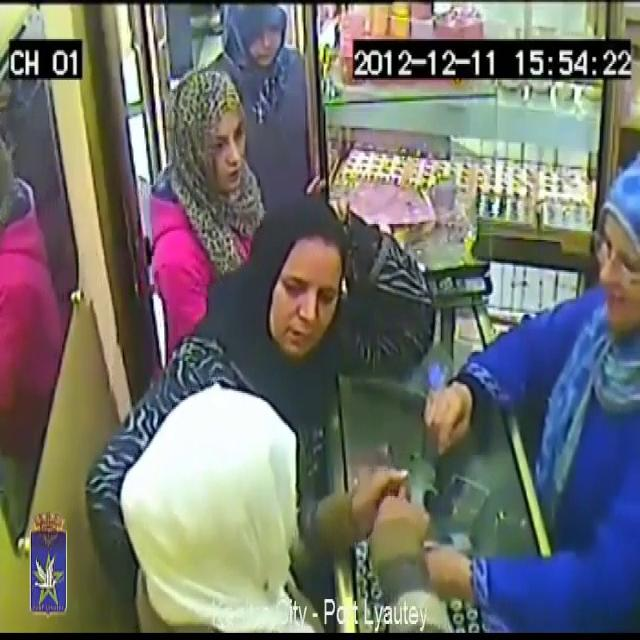normal: (456, 130, 640, 640), (120, 359, 412, 640), (130, 14, 250, 279), (246, 195, 378, 412), (223, 0, 323, 188)
